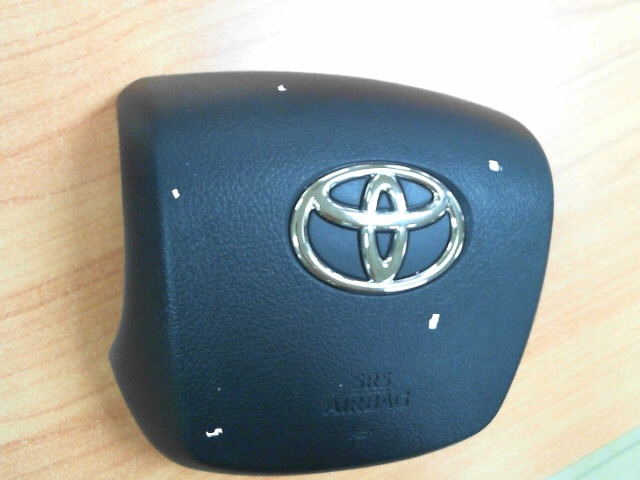Airbag: (487, 159, 503, 174), (427, 313, 441, 330), (205, 427, 223, 438), (171, 188, 181, 200), (278, 85, 288, 92)
